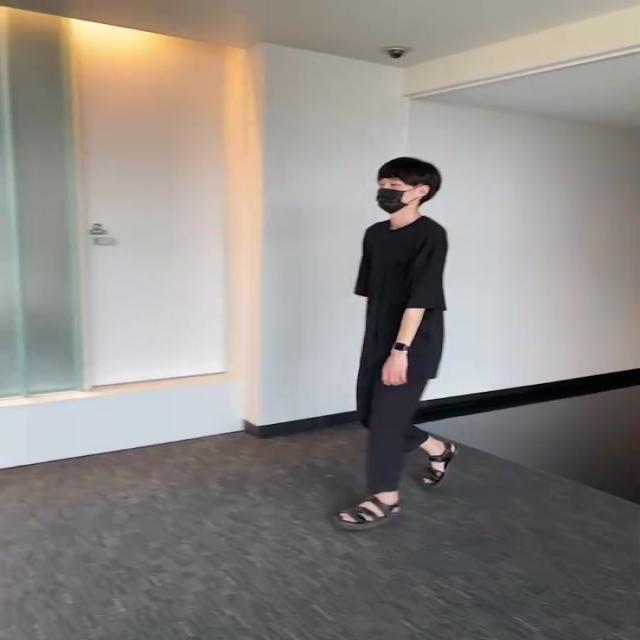direk: (328, 154, 460, 534)
